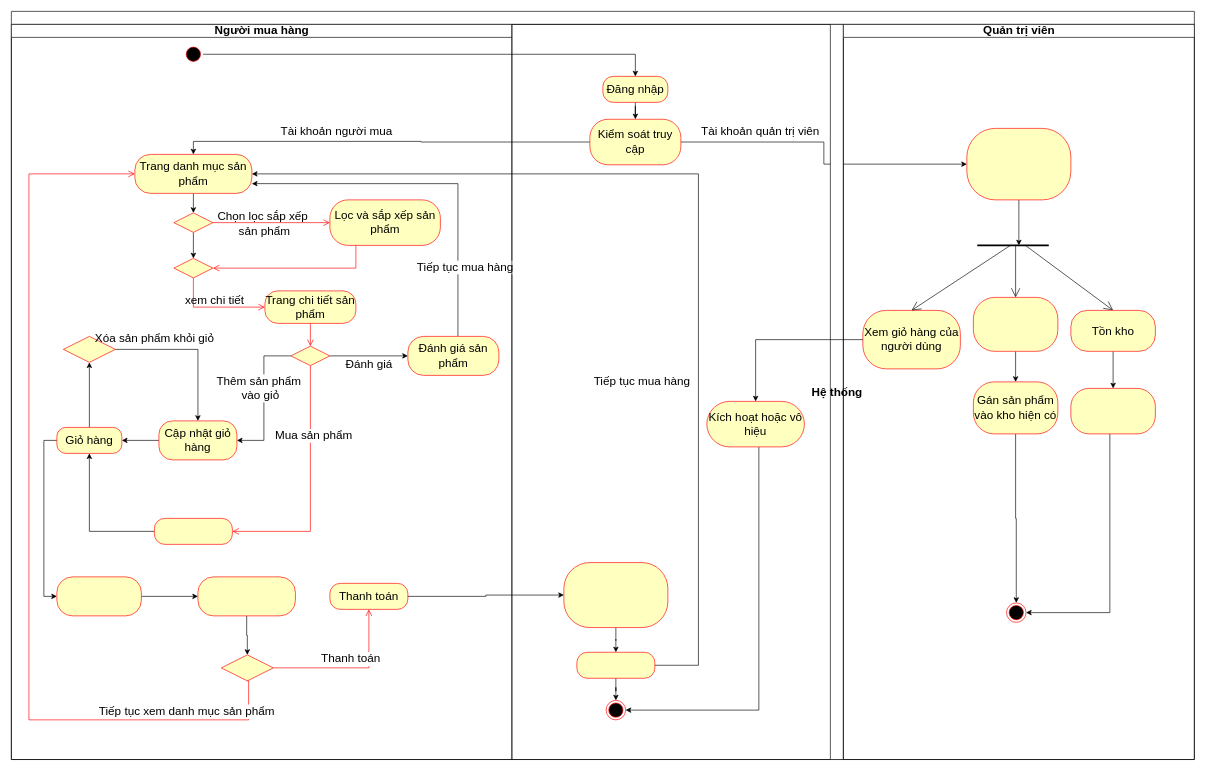
The diagram is 1206 pixels wide and 771 high, and some of its shapes have lost their labels. Here are the shapes that lost their labels. From the top down, the box of each, then its label:
(966, 128, 1071, 200): Trang quản trị
(973, 297, 1058, 351): Quản lý sản phẩm
(1070, 388, 1155, 434): Quản lý kho hàng
(154, 518, 232, 544): Mua hàng
(56, 576, 141, 616): Cập nhật bảng tổng hợp
(197, 576, 295, 616): Bảng tổng hợp
(563, 562, 668, 628): Xác thực thông tin, xử lí thanh toán
(576, 652, 655, 678): Gửi email
